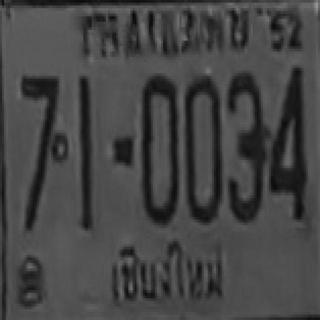N00: (183, 74, 220, 221), (141, 73, 177, 222)
N03: (226, 70, 265, 220)
N04: (267, 65, 306, 217)
N07: (20, 73, 59, 171)
P11: (101, 235, 228, 307)
